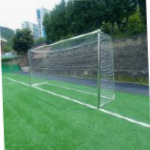goals: (24, 27, 117, 112)
